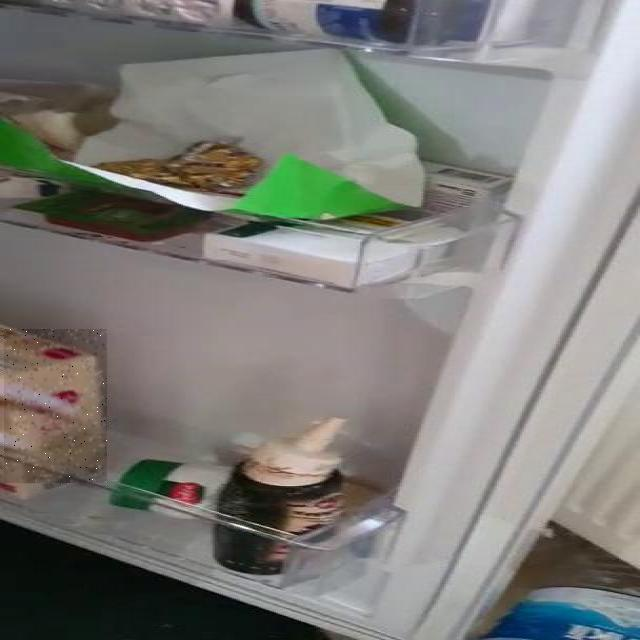milk: (0, 242, 58, 640)
